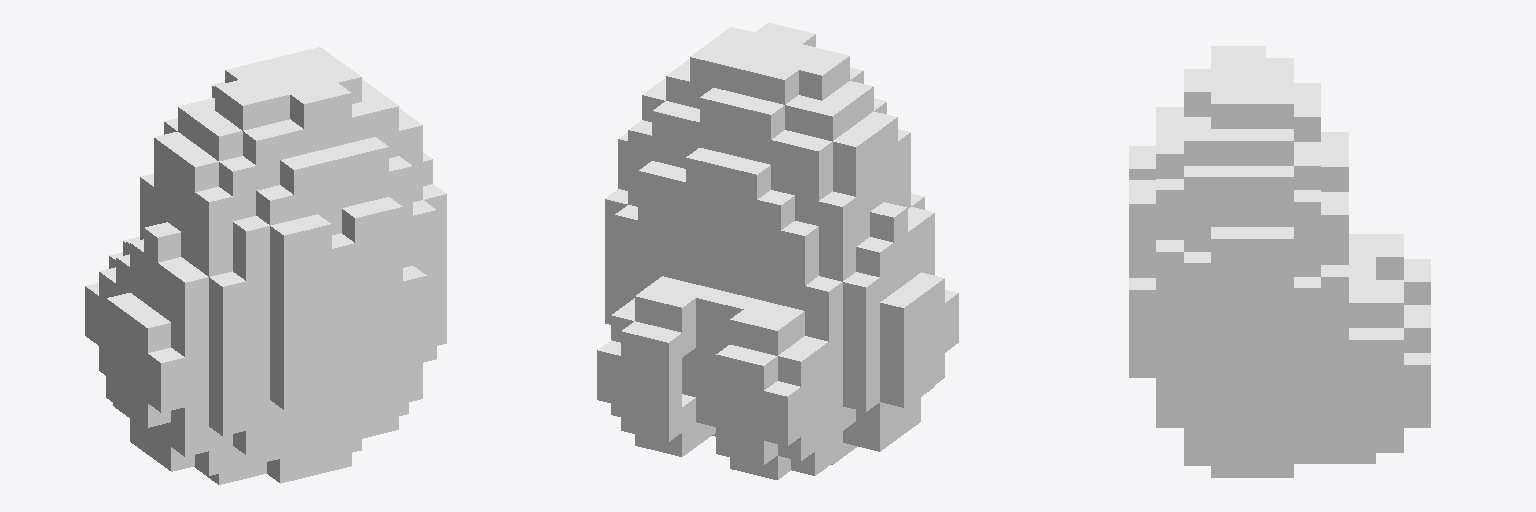
The model's file is bigasspotato.vox.obj.
The picture shows the model from 3 angles: view 1: azimuth 30°, elevation 25°; view 2: azimuth 150°, elevation 25°; view 3: azimuth 270°, elevation 25°; orthographic projection.
Visible parts, largest first — view 1: object 1; view 2: object 1; view 3: object 1.
Boxes of the visible parts, x1=… form: object 1: x1=85, y1=47, x2=446, y2=484; object 1: x1=597, y1=22, x2=958, y2=479; object 1: x1=1129, y1=46, x2=1430, y2=477.
Size of the model in its own units: 1.2 by 1.5 by 1.1.